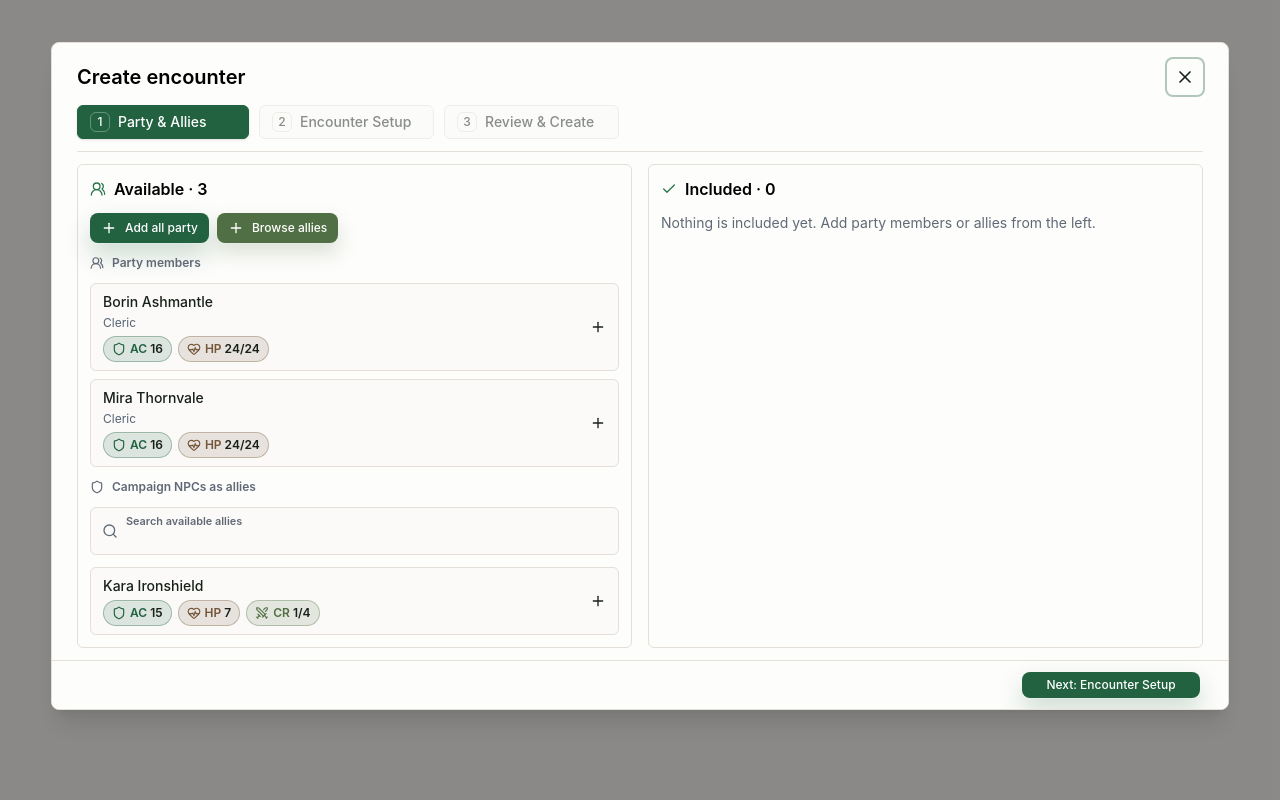
Test: CampaignEncounterCreateDialog › renders three steps and switches an untouched generated encounter without warning
This screenshot has width=1280, height=800.
Expected: the button "1 Party & Allies" is shown, [77,105,249,139]
Expected: the button "2 Encounter Setup" is shown, [259,105,434,139]
Click the button "Add all party" at (149,228), box [90,213,209,243]
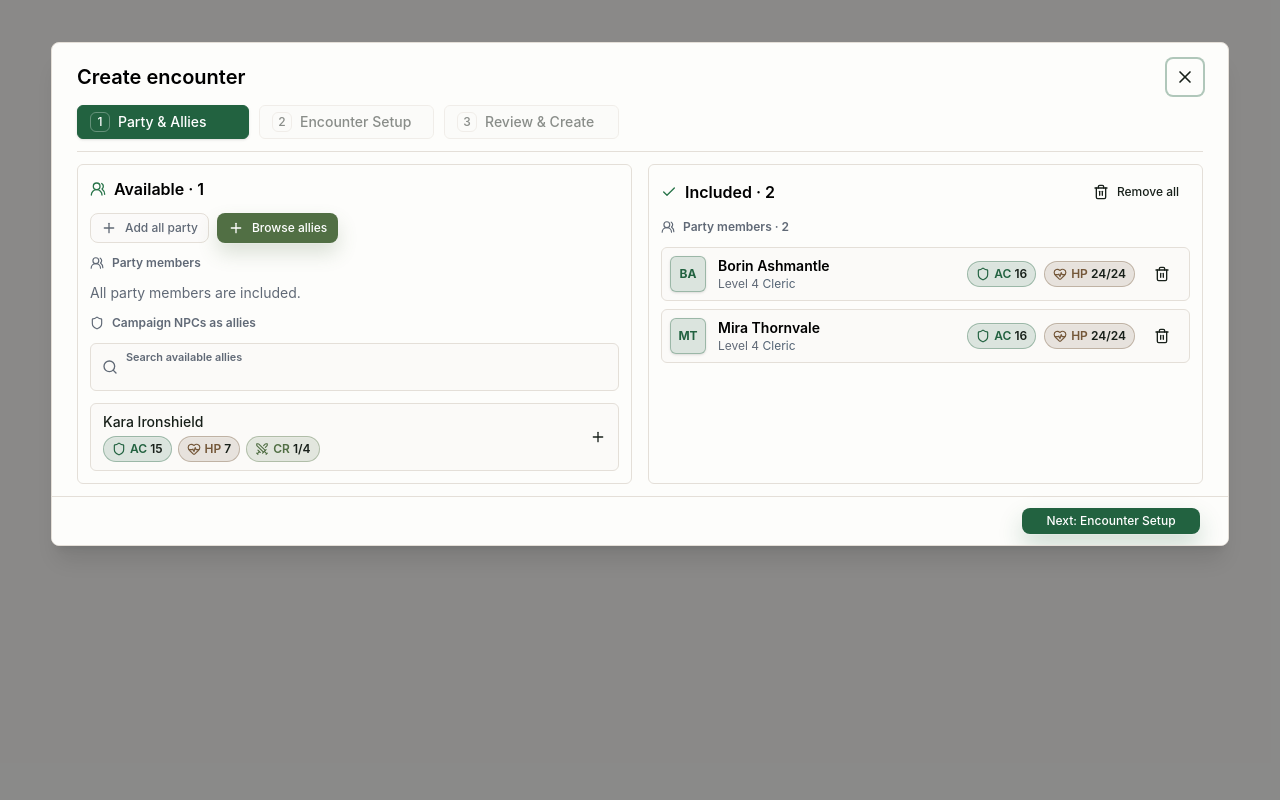
Click the button "Next: Encounter Setup" at (1111,521), box [1022,508,1200,534]
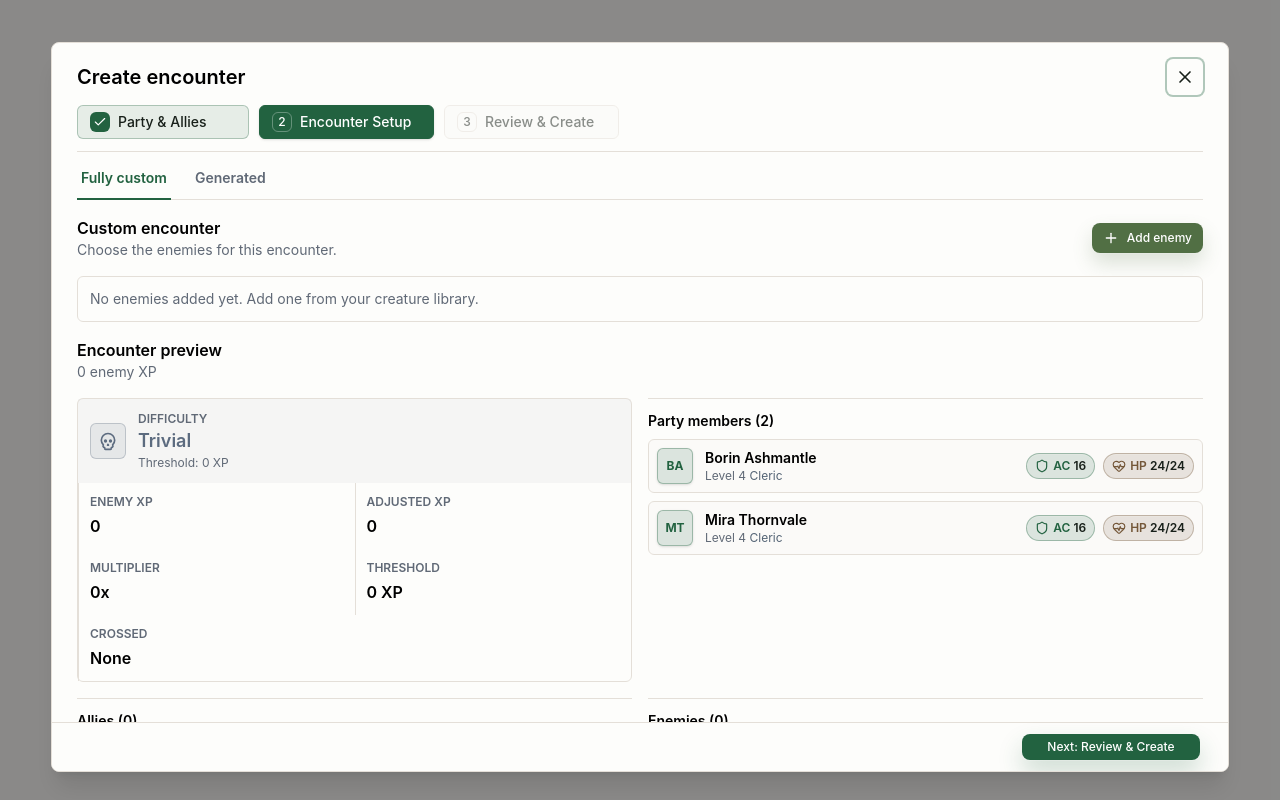
Click the tab "Generated" at (230,182), box [191,164,270,200]
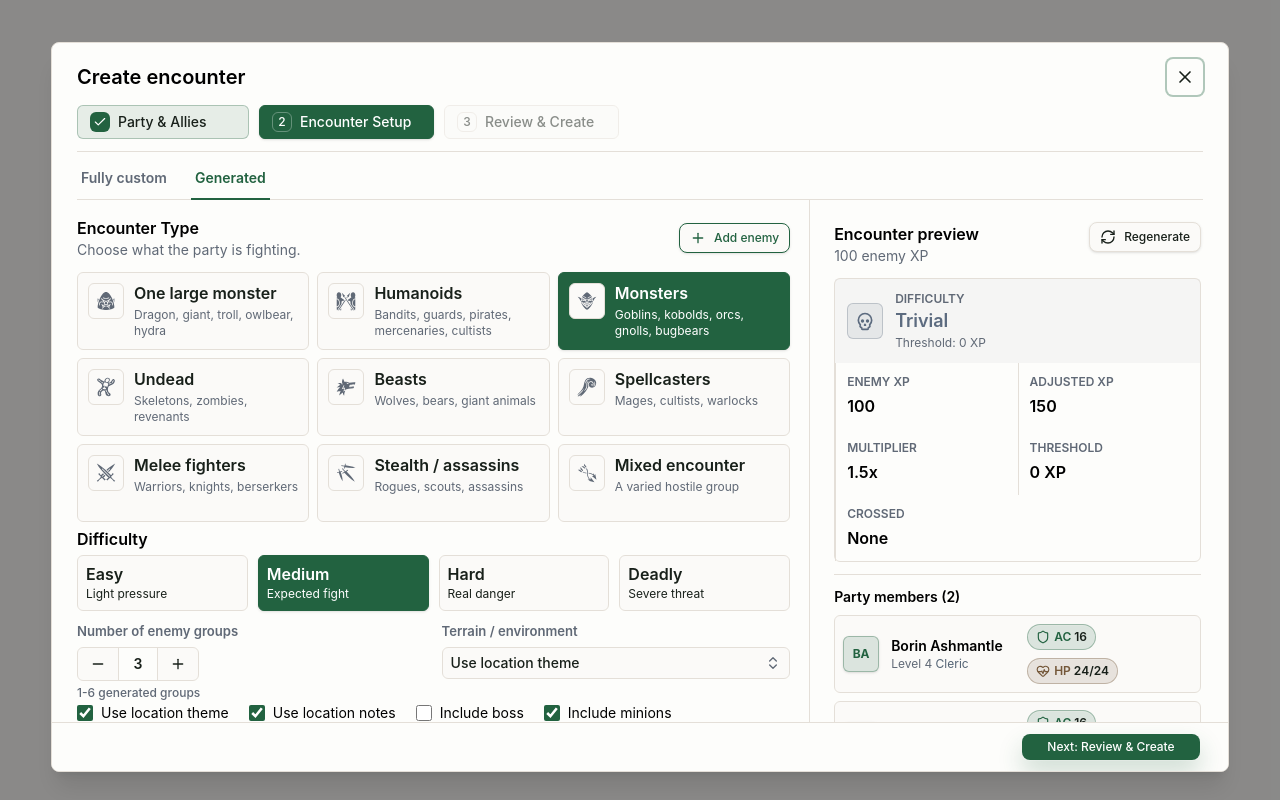
Expected: the heading "Encounter preview" is shown, [834,222,979,246]
Expected: the heading "Party members (2)" is shown, [834,588,960,605]
Click the tab "Fully custom" at (124,182), box [77,164,171,200]
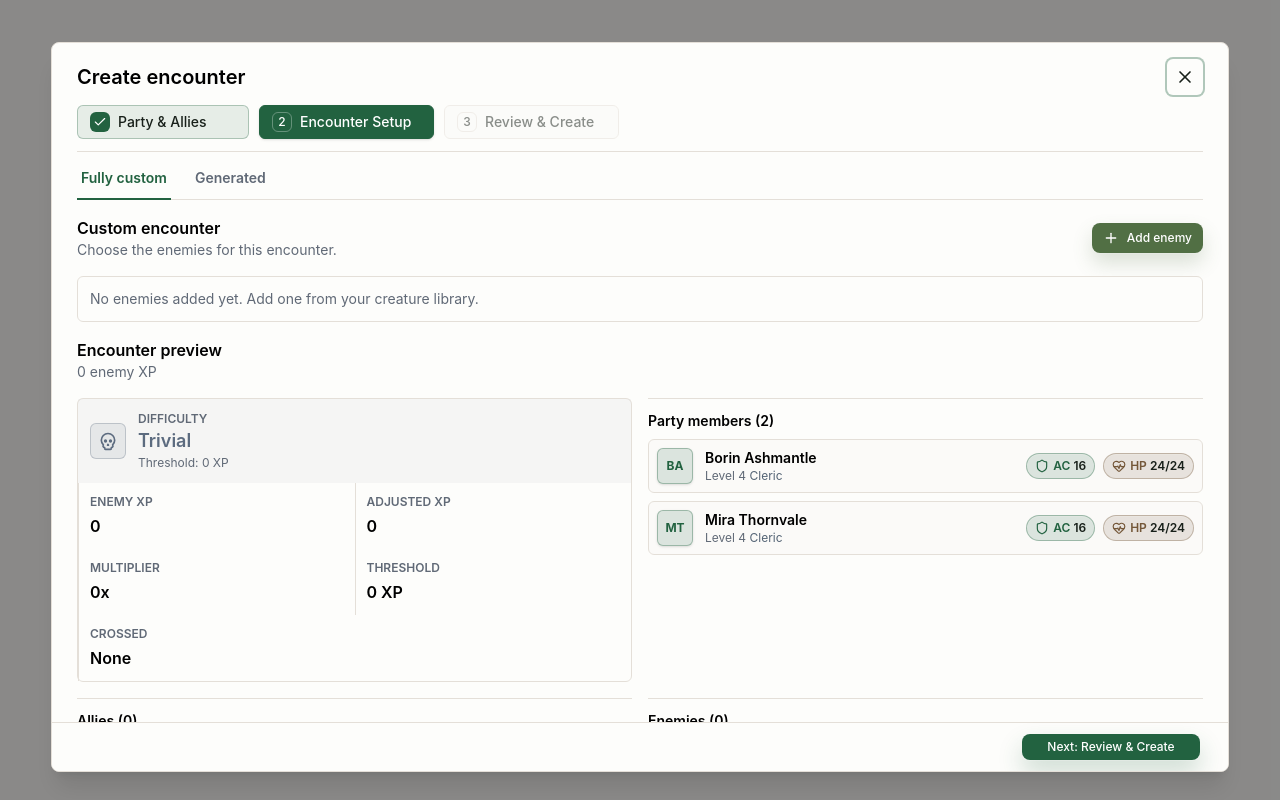
Expected: the heading "Custom encounter" is shown, [77,218,220,238]
